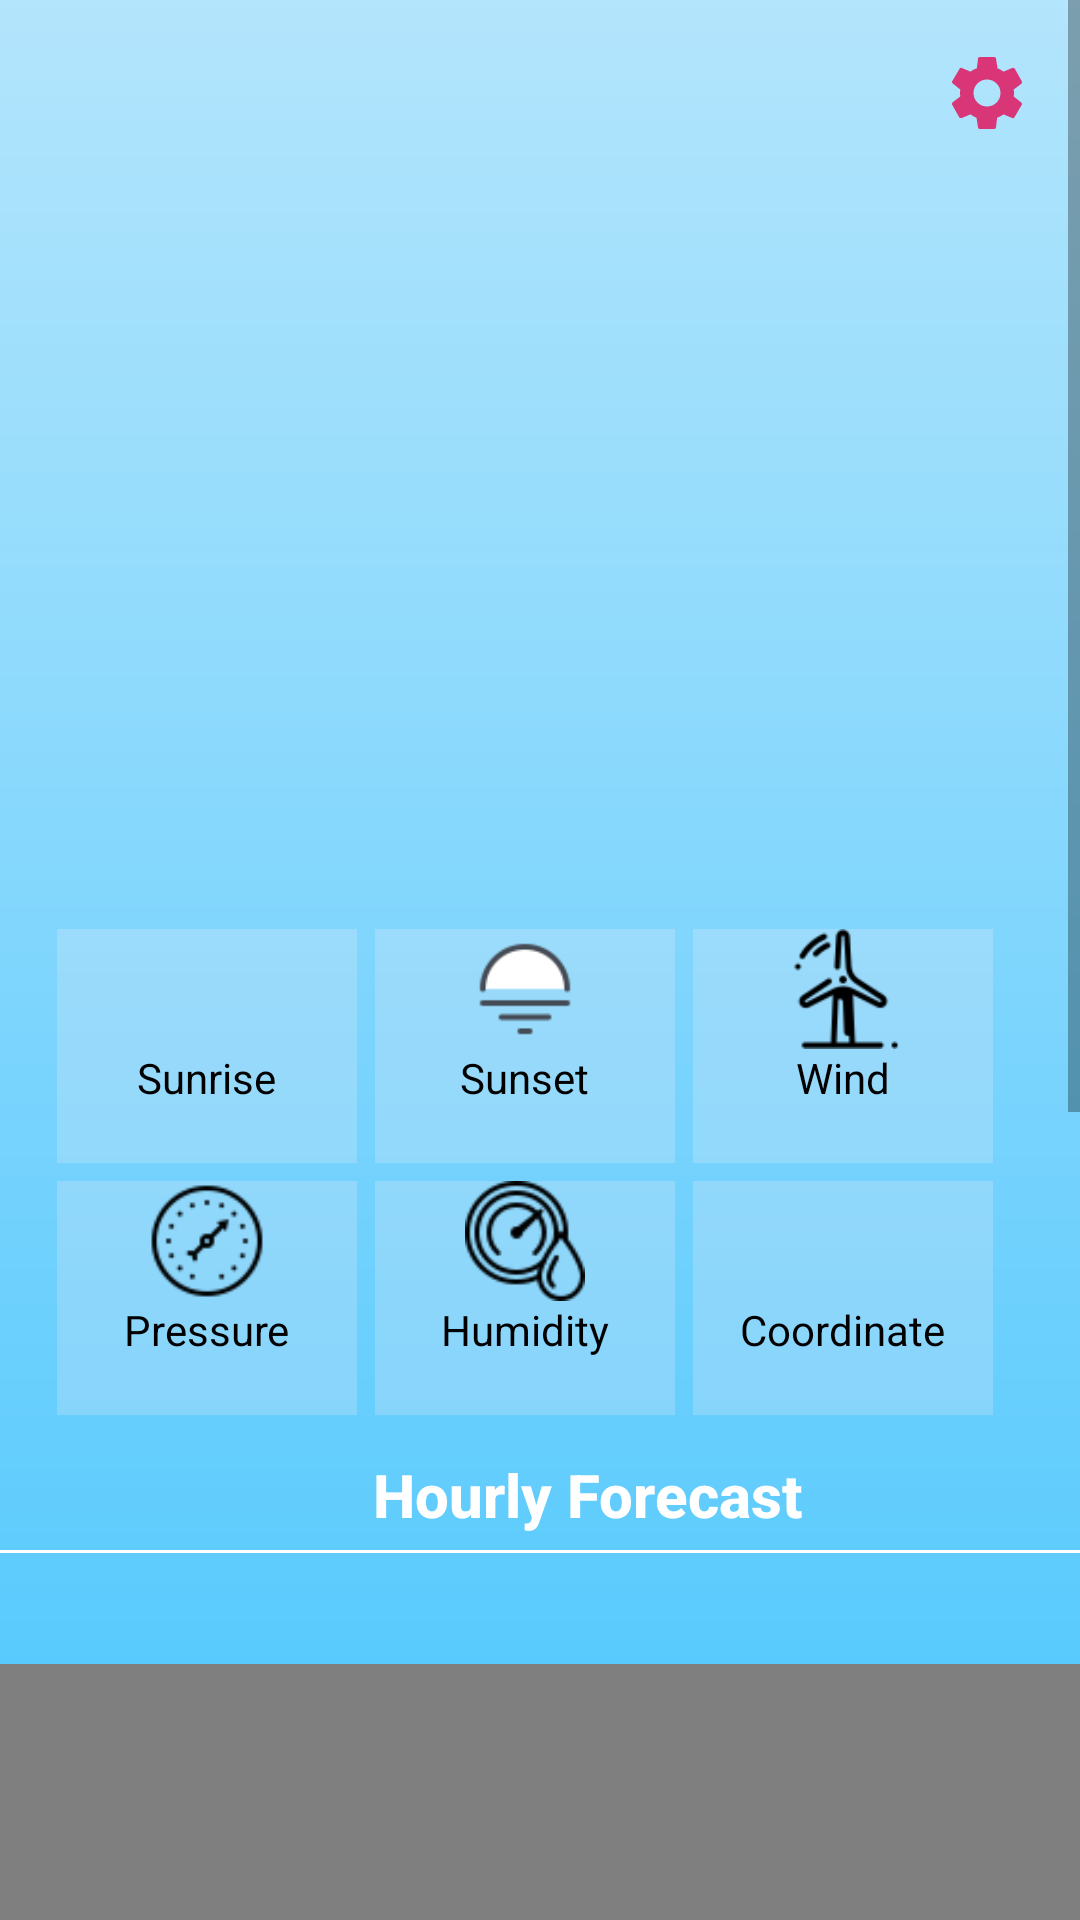

Where to tap for icons on this 1080w x 1920h app screen, as [x,y]:
setting: [987,93]
